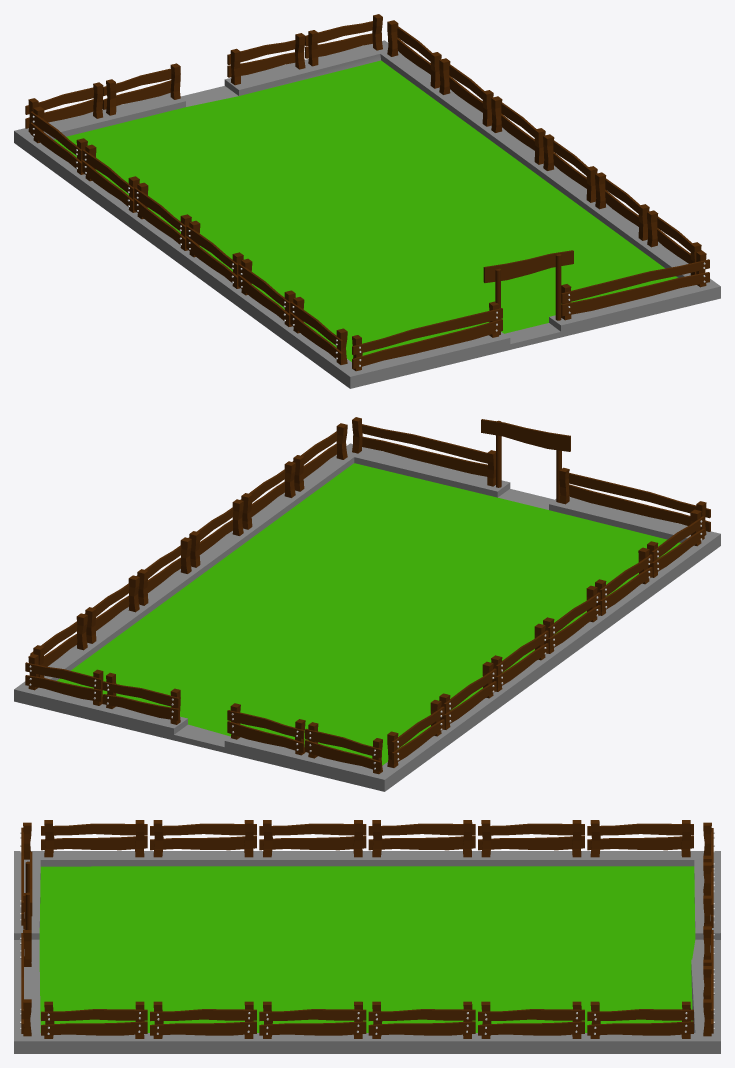
File: Island Dragon_v3.fbx
The picture shows the model from 3 angles, top to bottom: view 1: azimuth 30°, elevation 25°; view 2: azimuth 150°, elevation 25°; view 3: azimuth 270°, elevation 25°; orthographic projection. The views are drawn at different scales.
Visible parts, largest first — view 1: polySurface896, polySurface897; view 2: polySurface896, polySurface897; view 3: polySurface896, polySurface897.
Part boxes in pixels (x1,y1,x2,y2): polySurface896: (14, 14, 720, 388); polySurface897: (483, 250, 573, 335); polySurface896: (14, 417, 720, 791); polySurface897: (481, 419, 570, 502); polySurface896: (14, 820, 720, 1053); polySurface897: (25, 851, 32, 961).
Bounding box in the file's own units: 35.9 × 7.48 × 56.38.
1 material, 1 textured.
